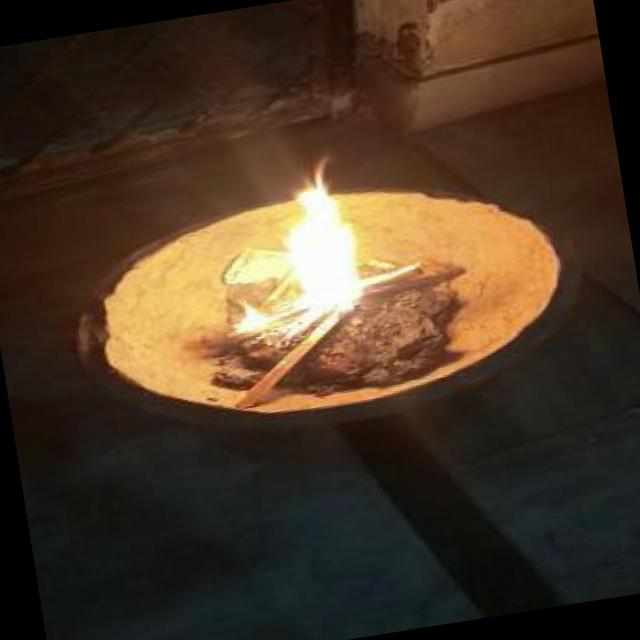fire: (203, 176, 380, 364)
